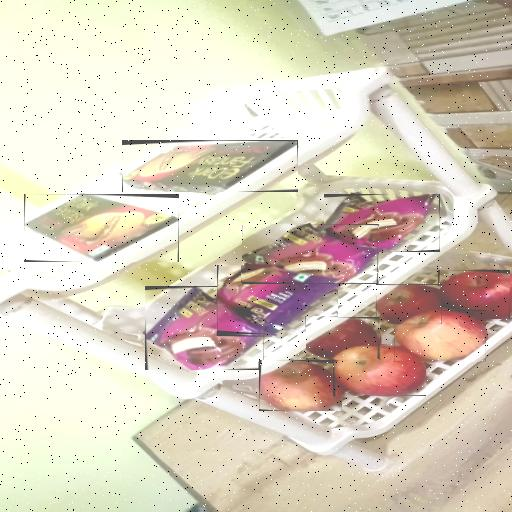Apple: (333, 344, 426, 396), (394, 310, 486, 362), (259, 360, 342, 411), (438, 270, 510, 319), (306, 318, 379, 359), (376, 284, 442, 324)
Choco Fills: (24, 194, 179, 262), (122, 140, 298, 192)
Choco Pie: (145, 286, 264, 370), (218, 266, 337, 334), (242, 224, 378, 283), (324, 194, 440, 252)
